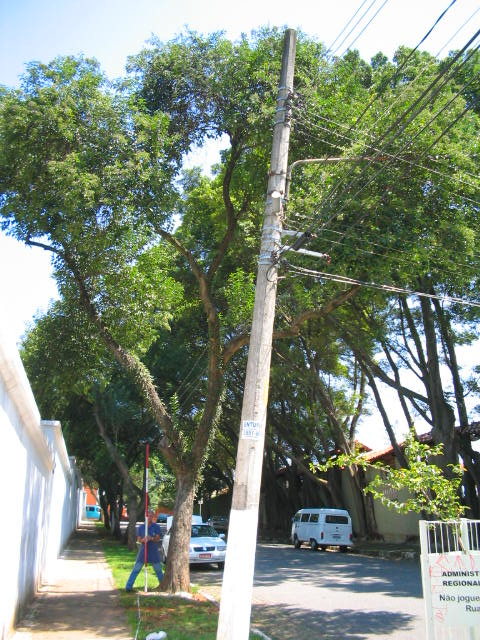crown: (2, 22, 472, 334)
stem: (155, 474, 206, 593)
stick: (135, 442, 151, 592)
tree: (1, 20, 473, 594)
